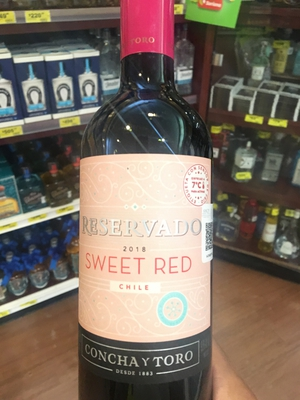reservado sweet red: (74, 12, 218, 400)
